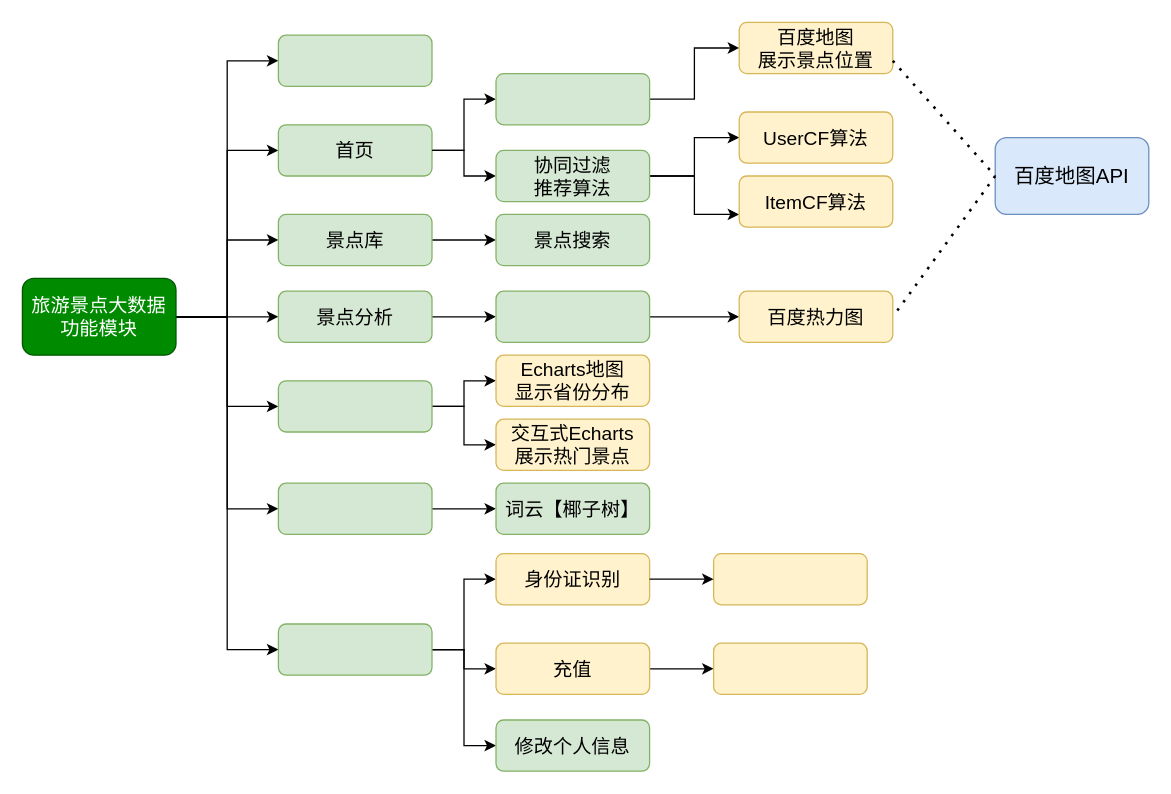
Some shapes in this 1171 by 794 pixel diagram are drawn without their labels. Each missing label, with the centre of its shape:
"AI图像识别" belongs at point 789,578.
"Echarts分析大屏" belongs at point 572,316.
"支付宝沙箱支付" belongs at point 789,668.
"景点介绍词云" belongs at point 354,508.
"景点分布分析" belongs at point 354,406.
"景点卡片" belongs at point 572,98.
"登录与注册" belongs at point 354,60.
"设置" belongs at point 354,649.
